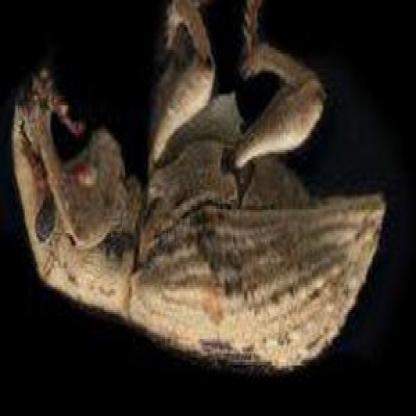rice-bug: (14, 4, 386, 368)
